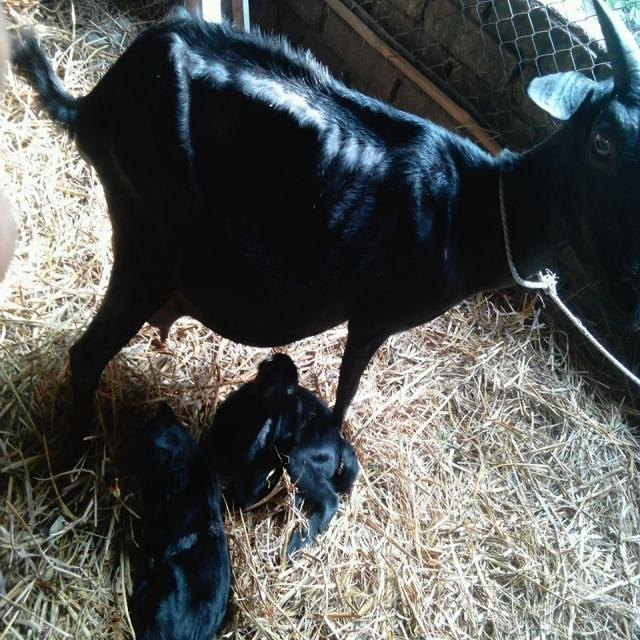Goat: (9, 1, 640, 477)
